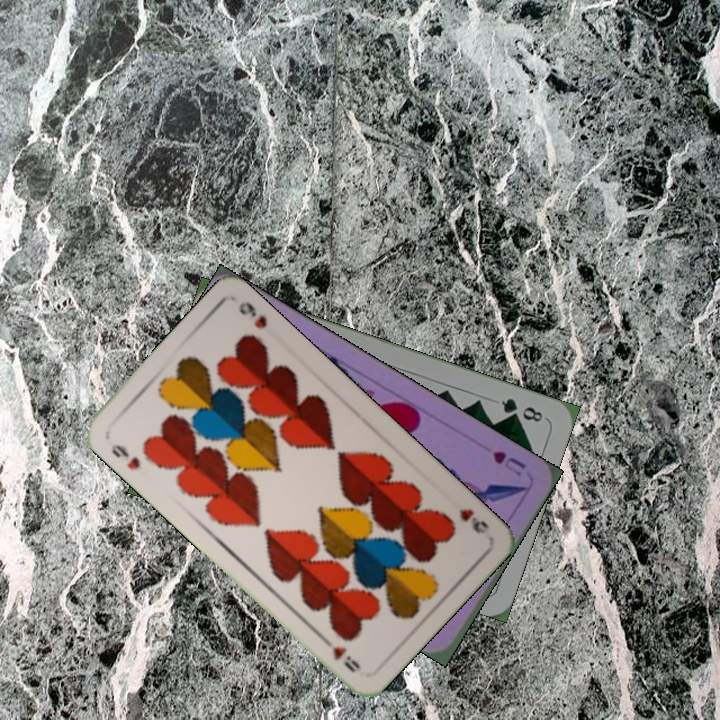G8: (497, 394, 546, 425)
H9: (455, 504, 492, 537), (107, 440, 143, 473)
HU: (488, 447, 529, 479)
